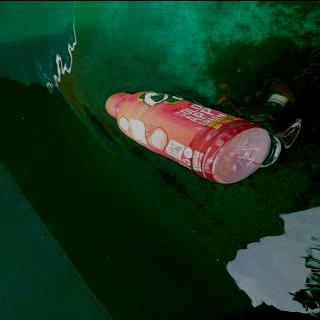bottle: (101, 88, 274, 184)
